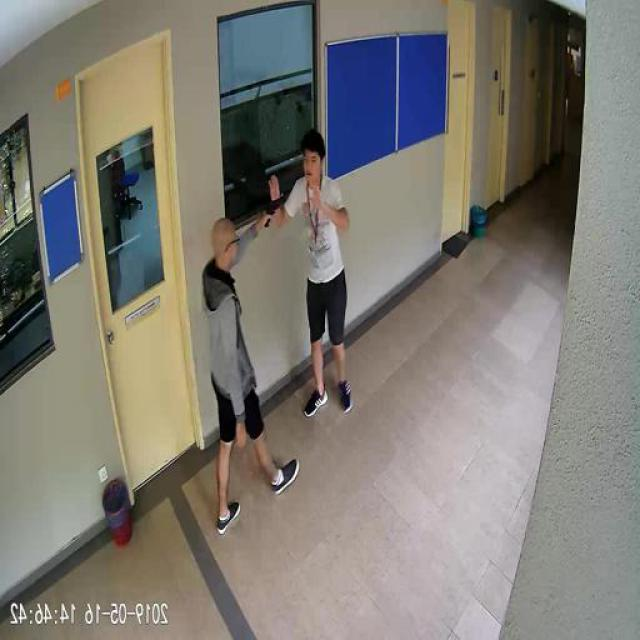Gun: (265, 192, 286, 226)
